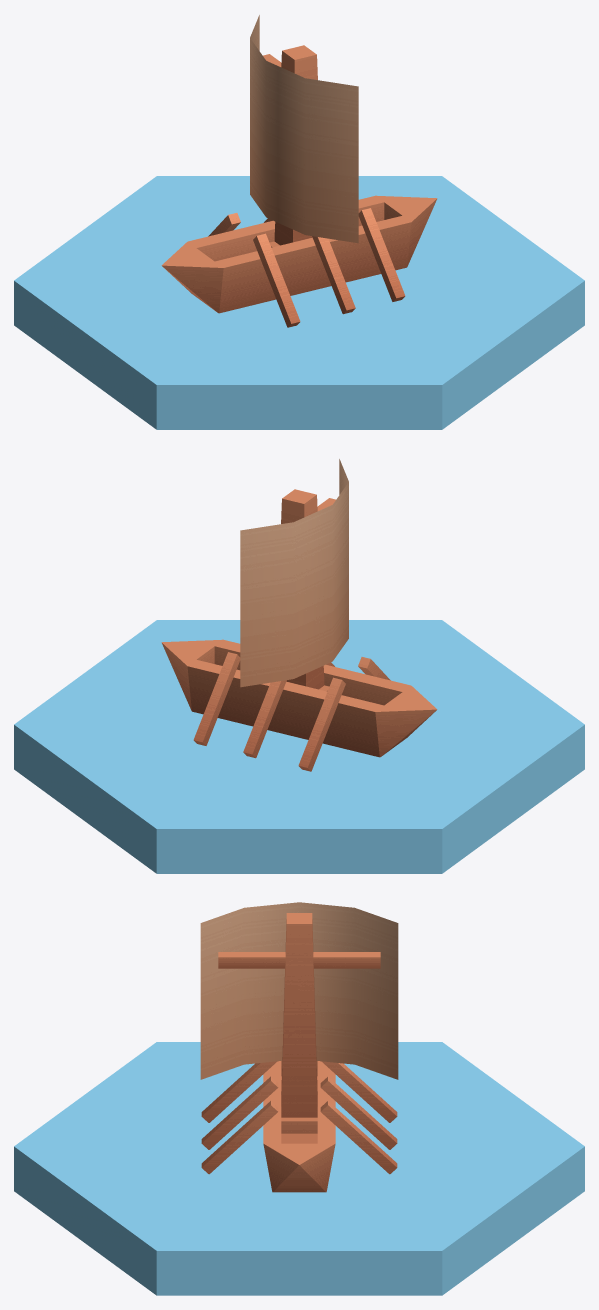
Rendered from water-ship-large.glb.
The picture shows the model from 3 angles, top to bottom: view 1: azimuth 30°, elevation 25°; view 2: azimuth 150°, elevation 25°; view 3: azimuth 270°, elevation 25°; orthographic projection.
Visible parts, largest first — view 1: water, unit-ship-large; view 2: water, unit-ship-large; view 3: water, unit-ship-large.
Part boxes in pixels (bbox=[...]): water: bbox=[14, 176, 584, 429]; unit-ship-large: bbox=[161, 15, 437, 327]; water: bbox=[14, 620, 584, 873]; unit-ship-large: bbox=[161, 459, 437, 771]; water: bbox=[14, 1042, 584, 1295]; unit-ship-large: bbox=[200, 902, 398, 1192].
Size of the model in its own units: 1 by 0.6086 by 1.15.
1 material, 1 textured.
